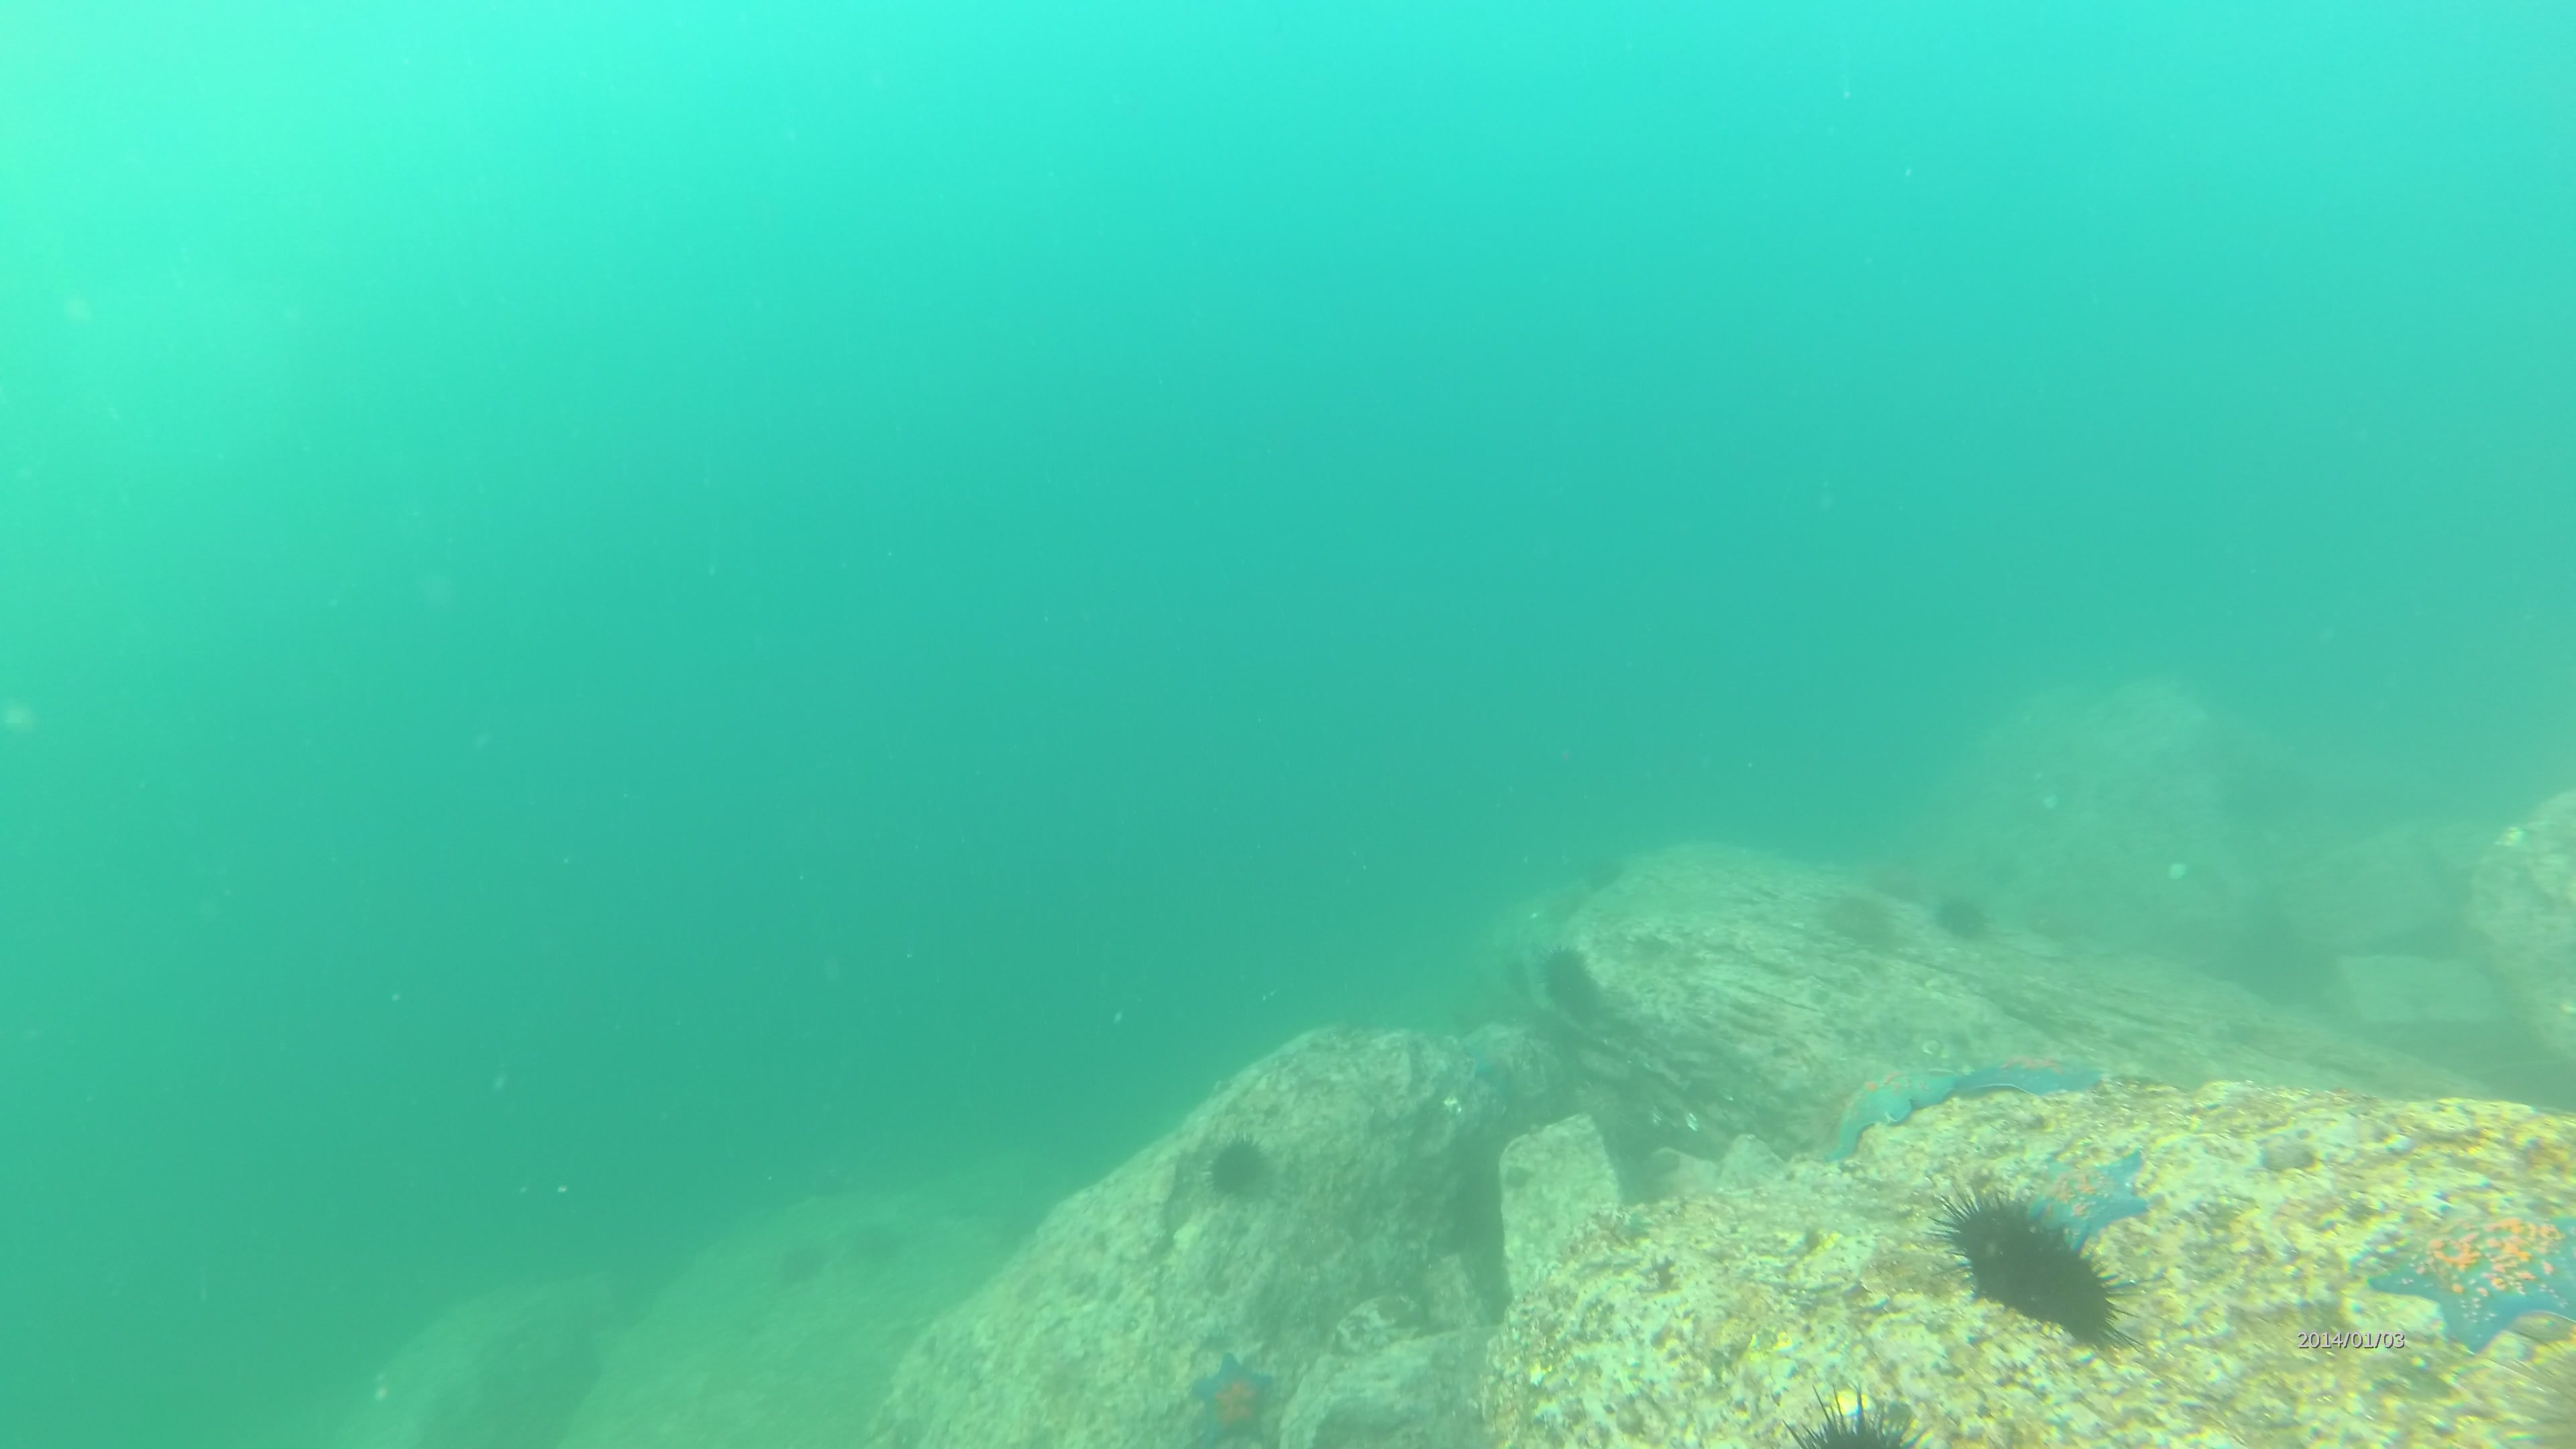echinus: (1943, 1187, 2143, 1369), (1775, 1380, 1920, 1449), (1200, 1132, 1277, 1214), (1821, 879, 1895, 957), (1928, 885, 1996, 957), (1529, 941, 1596, 1010), (768, 1228, 837, 1292), (1564, 844, 1637, 897)
starfish: (2365, 1201, 2576, 1355), (1826, 1067, 1967, 1175), (1182, 1348, 1281, 1449), (1967, 1046, 2114, 1104)
